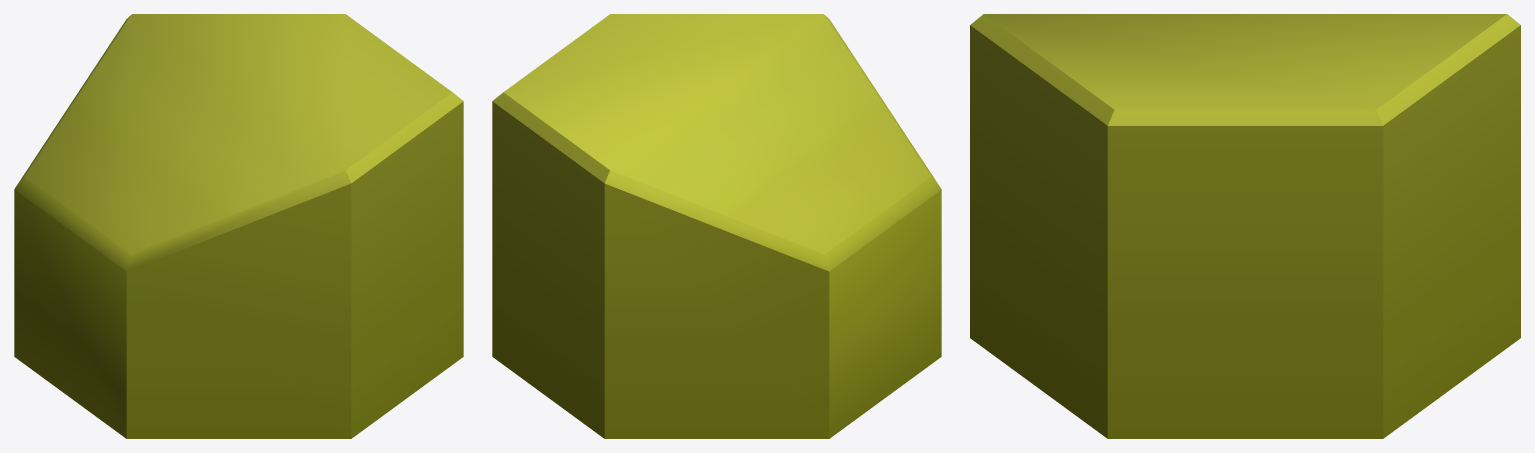
File: hex_grass_sloped_low.glb
The picture shows the model from 3 angles, left to right: view 1: azimuth 30°, elevation 25°; view 2: azimuth 150°, elevation 25°; view 3: azimuth 270°, elevation 25°; orthographic projection. The views are drawn at different scales.
Parts seen in each view (by area): view 1: hex_grass_sloped_low; view 2: hex_grass_sloped_low; view 3: hex_grass_sloped_low.
Part boxes in pixels (x1,y1,x2,y2): hex_grass_sloped_low: [14, 14, 463, 438]; hex_grass_sloped_low: [492, 14, 941, 438]; hex_grass_sloped_low: [970, 14, 1520, 438].
Bounding box in the file's own units: 2 × 1.5 × 2.31.
Materials: 1 (1 with a texture image).
